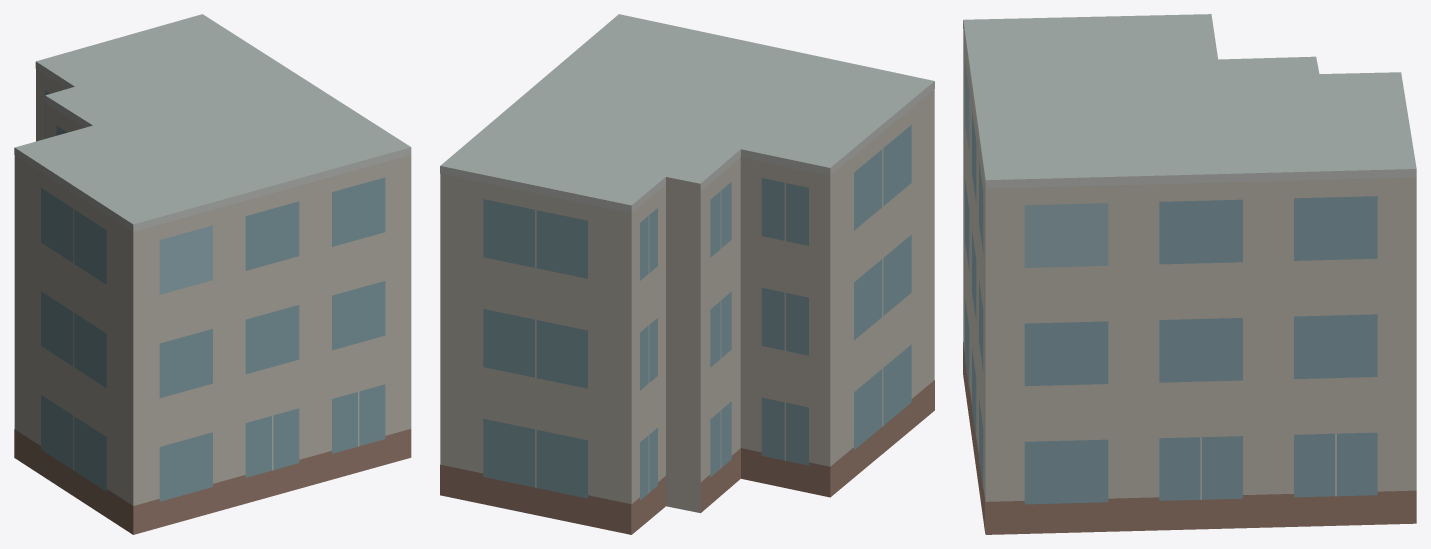
Rendered from survey-upis-32748134.glb.
3 renders of one model, left to right at view 1: azimuth 30°, elevation 25°; view 2: azimuth 150°, elevation 25°; view 3: azimuth 270°, elevation 25°, orthographic. The views are drawn at different scales.
Visible parts, largest first — view 1: survey-upis-32748134.tmp; view 2: survey-upis-32748134.tmp; view 3: survey-upis-32748134.tmp.
Boxes of the visible parts, bbox=[...] form: survey-upis-32748134.tmp: bbox=[14, 14, 411, 534]; survey-upis-32748134.tmp: bbox=[440, 14, 934, 534]; survey-upis-32748134.tmp: bbox=[963, 14, 1416, 534].
Bounding box in the file's own units: 10.26 × 10.2 × 11.83.
